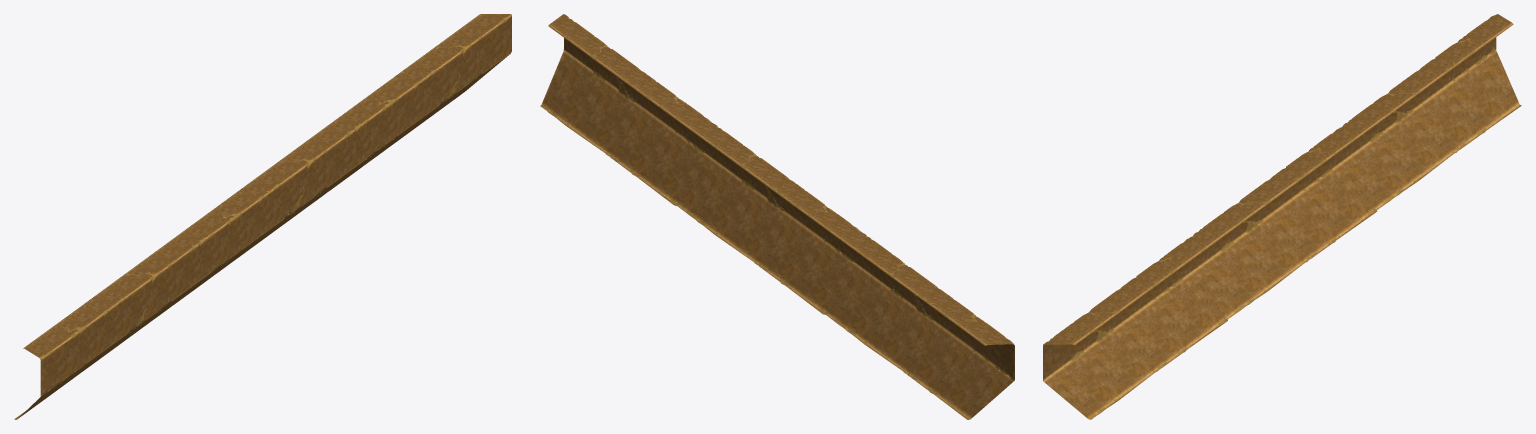
The picture shows the model from 3 angles, left to right: view 1: azimuth 90°, elevation 25°; view 2: azimuth 150°, elevation 25°; view 3: azimuth 270°, elevation 25°; orthographic projection. The views are drawn at different scales.
Visible parts, largest first — view 1: SM_Nightmare_Crucible_Arena_BorderA_01v1_LOD0; view 2: SM_Nightmare_Crucible_Arena_BorderA_01v1_LOD0; view 3: SM_Nightmare_Crucible_Arena_BorderA_01v1_LOD0.
Boxes of the visible parts, <box> form: SM_Nightmare_Crucible_Arena_BorderA_01v1_LOD0: <box>14,14,511,419</box>; SM_Nightmare_Crucible_Arena_BorderA_01v1_LOD0: <box>540,14,1014,419</box>; SM_Nightmare_Crucible_Arena_BorderA_01v1_LOD0: <box>1043,14,1521,419</box>.
Size of the model in its own units: 120 by 12.76 by 73.37.
Materials: 2 (2 with a texture image).
